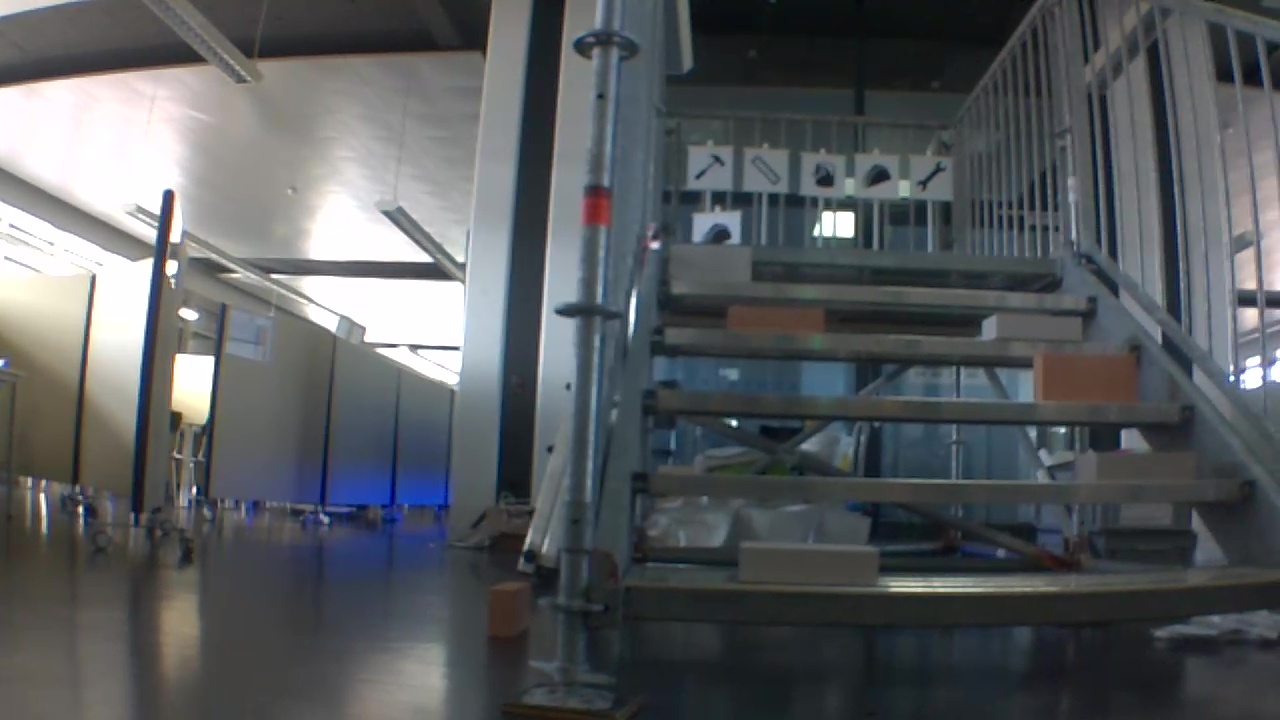brick: (745, 542, 880, 582), (1032, 352, 1144, 400), (1079, 452, 1200, 480), (670, 248, 751, 284), (983, 314, 1080, 341), (722, 306, 820, 331)
bucket: (811, 157, 836, 192)
edge: (631, 574, 1280, 627), (636, 471, 1265, 510), (646, 400, 1191, 422), (652, 328, 1101, 350), (665, 282, 1096, 301), (668, 253, 1057, 261)
hammer: (693, 152, 729, 183)
ruler: (749, 155, 783, 186)
stairs: (563, 0, 1280, 705)
steps: (598, 248, 1280, 628)
taco: (856, 160, 895, 189), (698, 221, 733, 242)
wrench: (912, 159, 947, 194)
